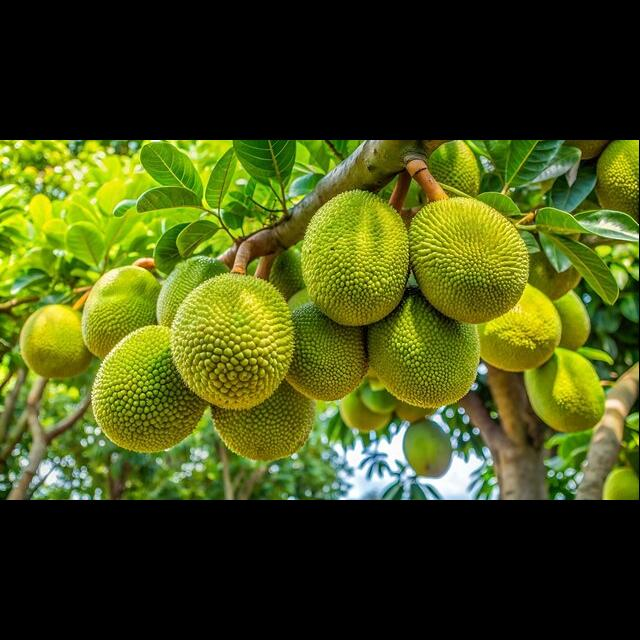mit: (171, 273, 293, 410), (91, 325, 209, 456), (410, 197, 527, 325), (302, 188, 409, 326), (368, 294, 481, 410), (289, 301, 366, 401), (482, 282, 565, 373), (82, 264, 158, 360), (206, 404, 319, 462), (529, 351, 606, 434), (15, 306, 93, 382), (158, 256, 224, 323), (419, 139, 481, 203), (597, 139, 640, 219)
